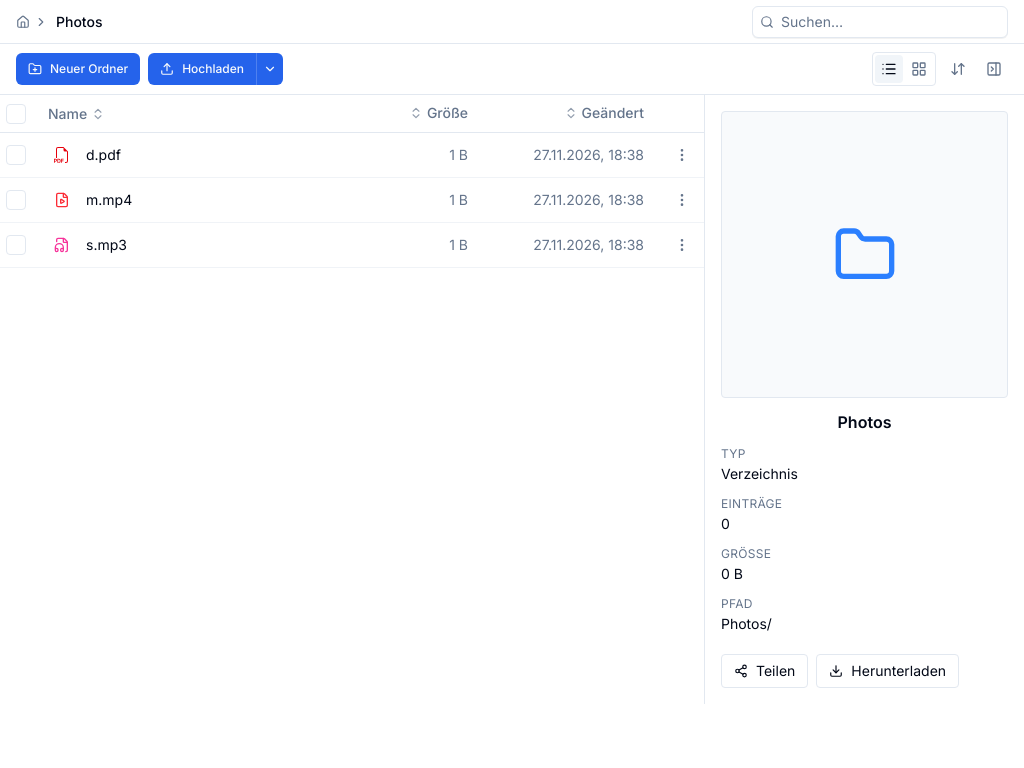
FilesPage — Vorschau › Audio/Video bekommen "Abspielen", PDF "Anzeigen"
This screenshot has width=1024, height=768.
Expected: the text "s.mp3" is shown, [86,235,127,255]
# alphab.: d.pdf[0], m.mp4[1], s.mp3[2]
Click the button named "Aktionen" in the row of "d.pdf". click: (682, 155)
box: [668,141,696,169]
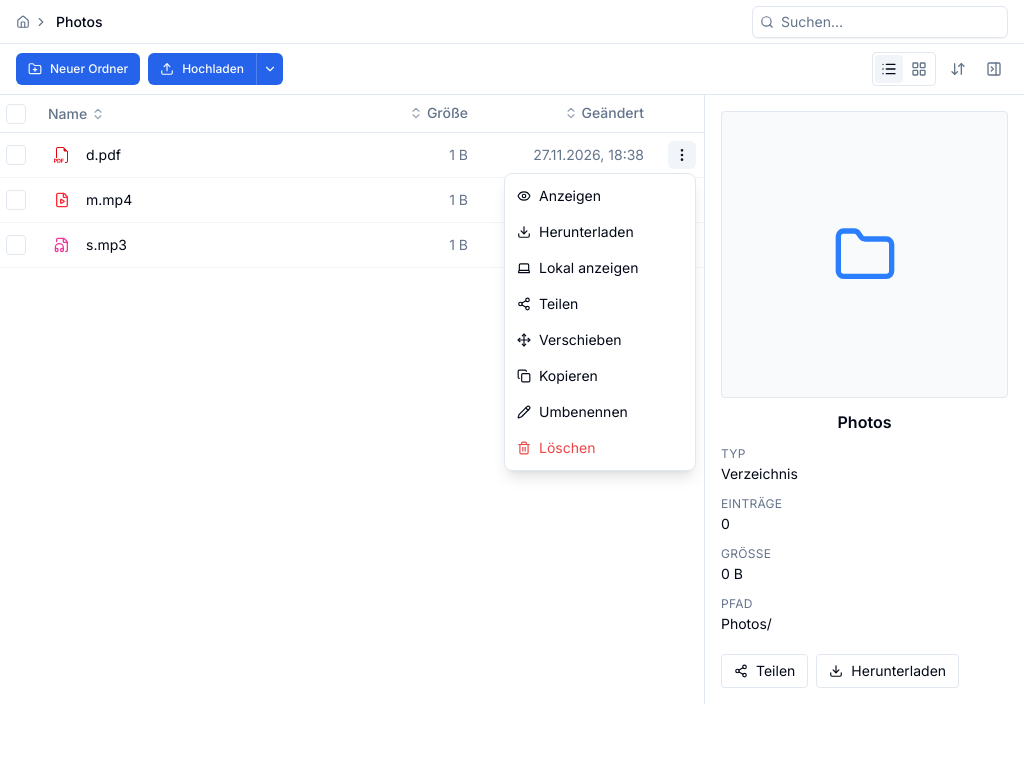
Expected: the menu item "Anzeigen" is shown, [505,178,695,214]
Press Escape
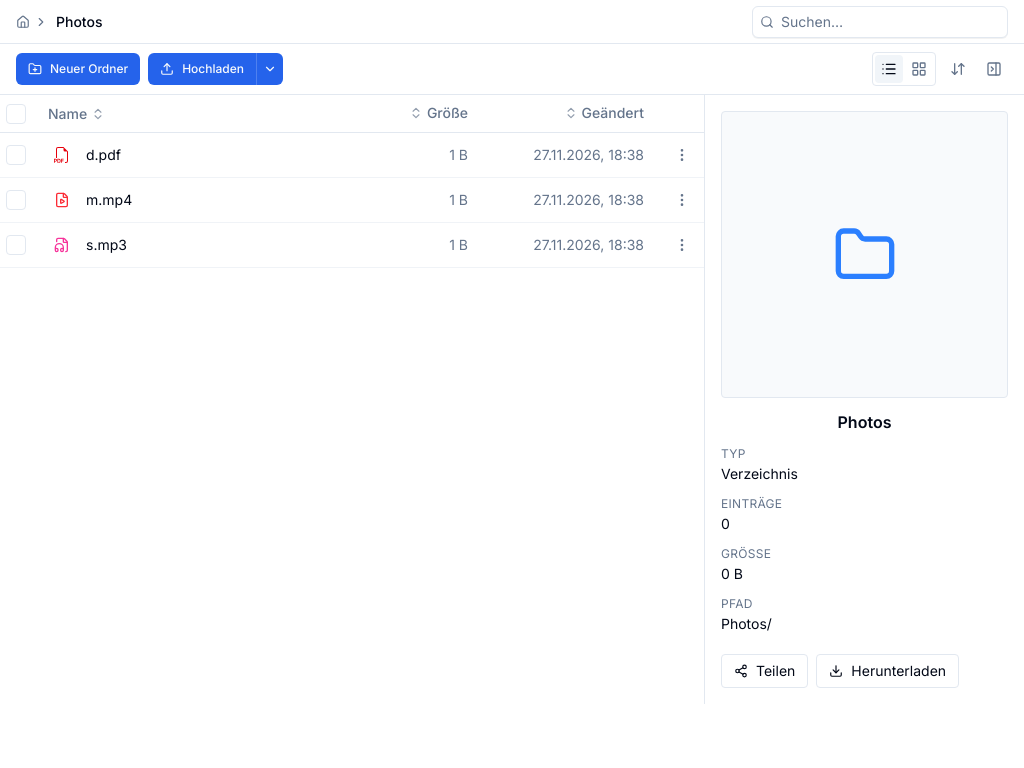
Click the button named "Aktionen" in the row of "m.mp4". click: (682, 200)
box: [668,186,696,214]
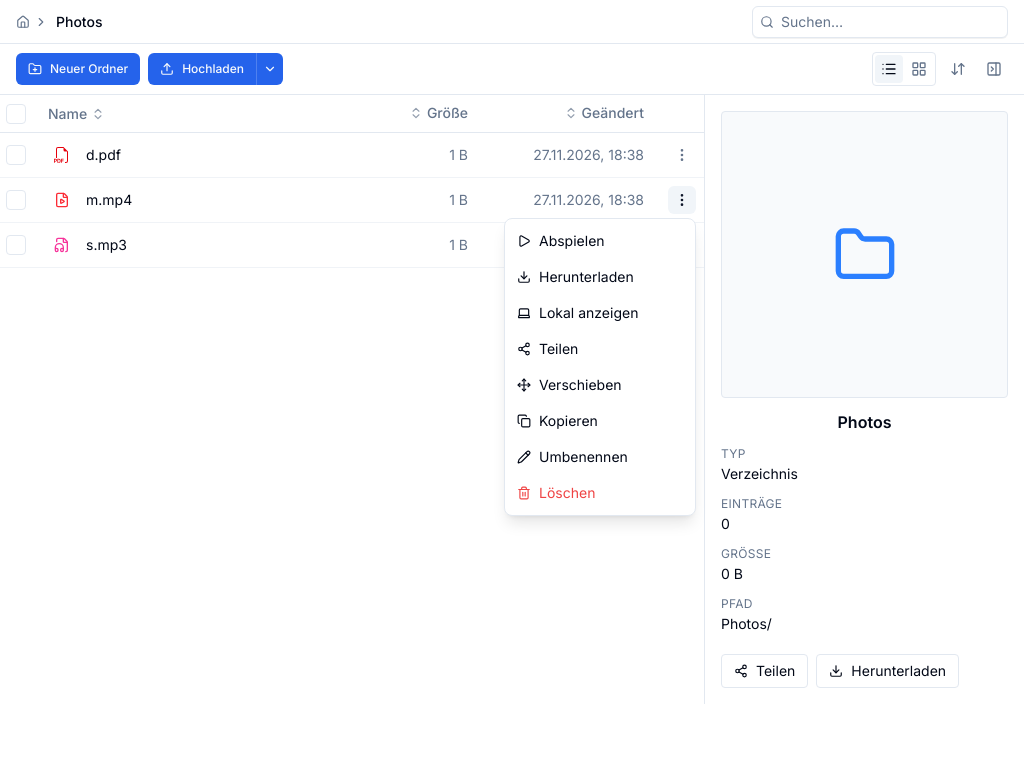
Expected: the menu item "Abspielen" is shown, [505,223,695,259]
Press Escape
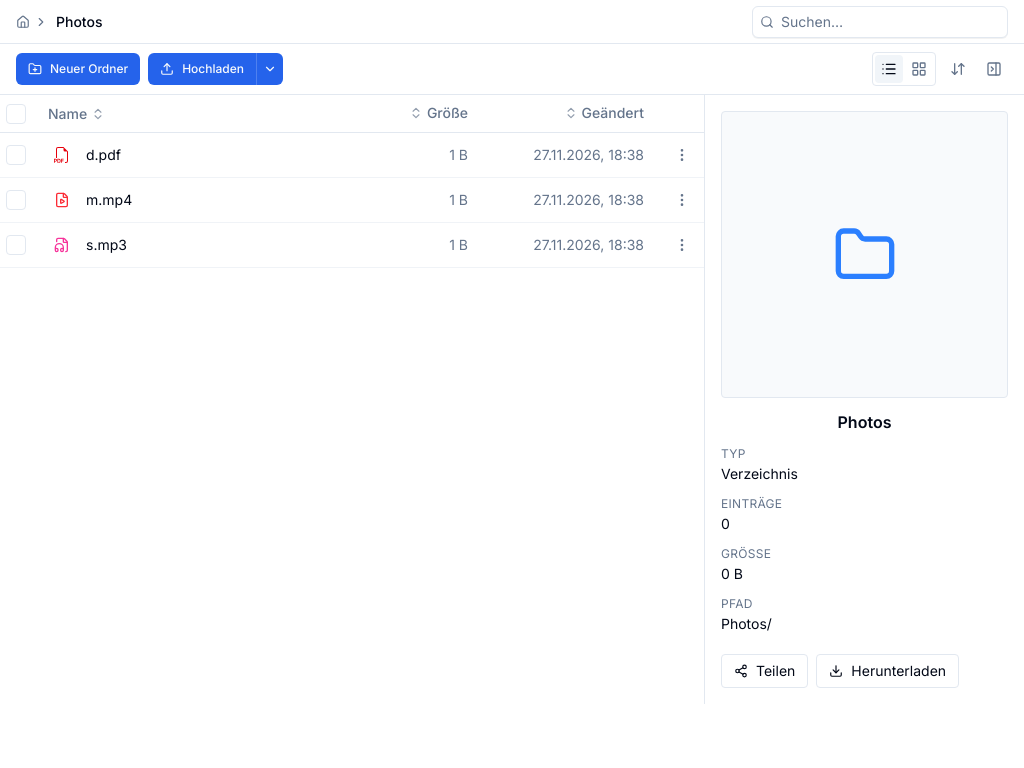
Click the button named "Aktionen" in the row of "s.mp3". click: (682, 245)
box: [668,231,696,259]
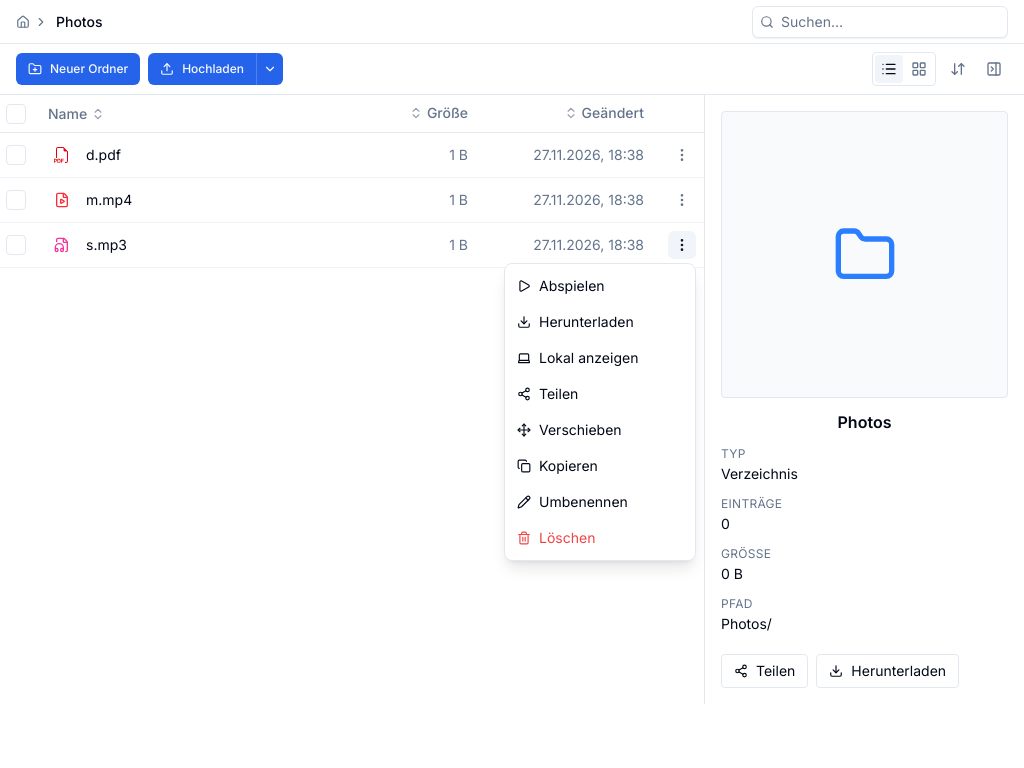
Expected: the menu item "Abspielen" is shown, [505,268,695,304]
